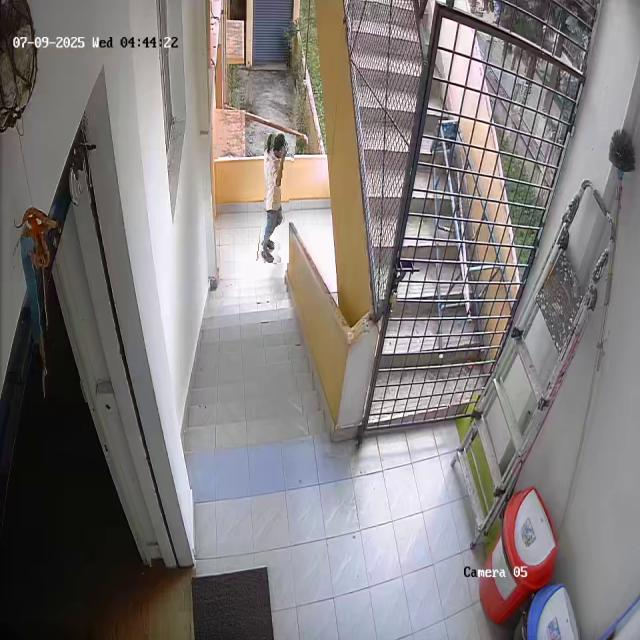person: (260, 132, 293, 264)
